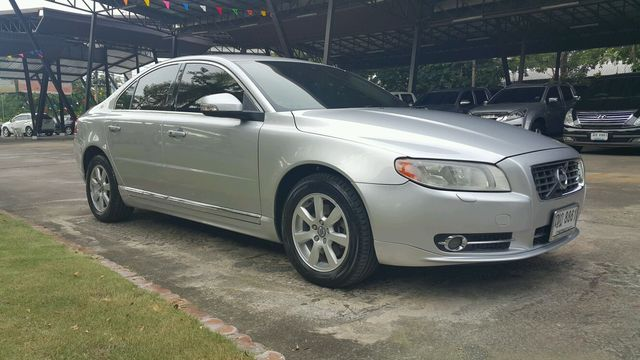sedan: (70, 49, 586, 290)
